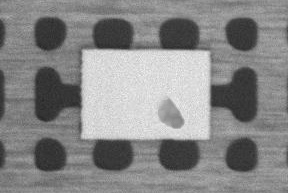DIE_INK: (225, 61, 285, 90)
